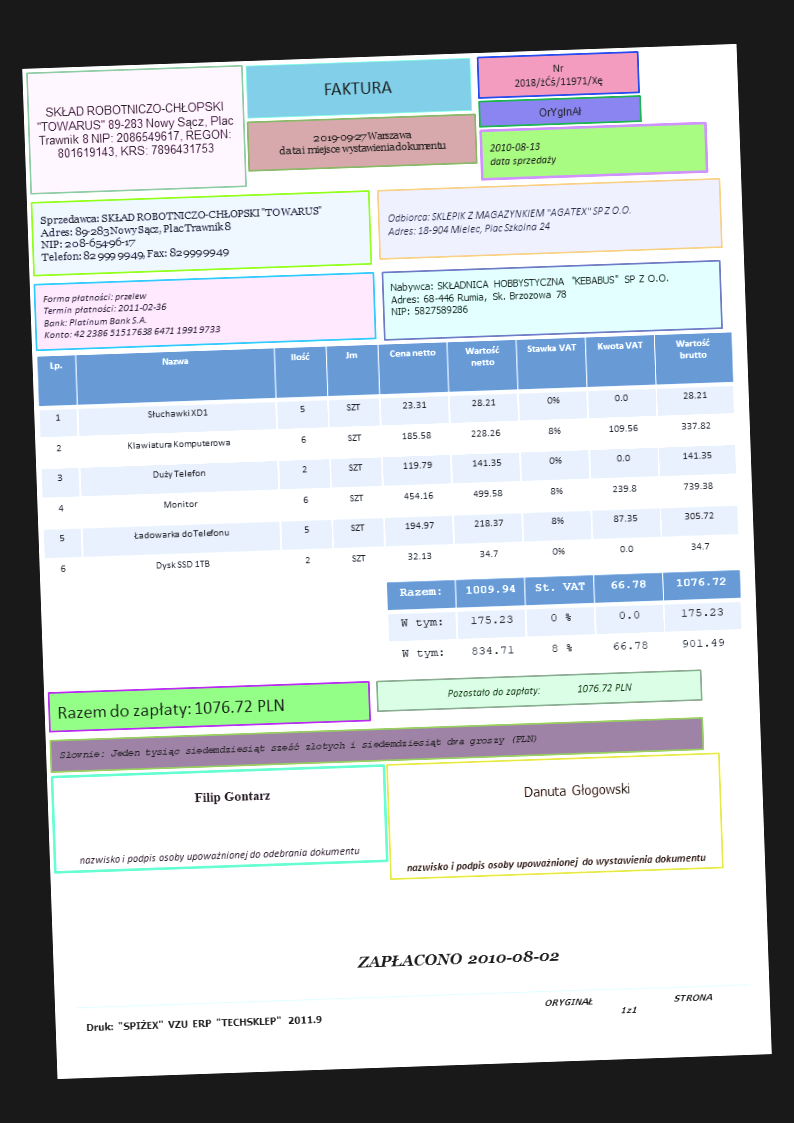Table: (35, 331, 739, 591), (385, 569, 745, 673)
TextBox: (36, 203, 325, 266), (57, 732, 538, 762), (387, 270, 674, 318), (33, 98, 237, 161), (40, 286, 223, 343), (385, 203, 634, 239), (404, 849, 707, 874), (77, 844, 361, 868), (56, 695, 286, 723), (84, 1012, 325, 1035), (352, 946, 562, 972), (276, 127, 450, 158), (543, 991, 716, 1019), (445, 680, 635, 701), (511, 61, 606, 91), (522, 781, 631, 803), (487, 138, 559, 169), (321, 78, 393, 100), (192, 787, 272, 806), (536, 102, 583, 120)
